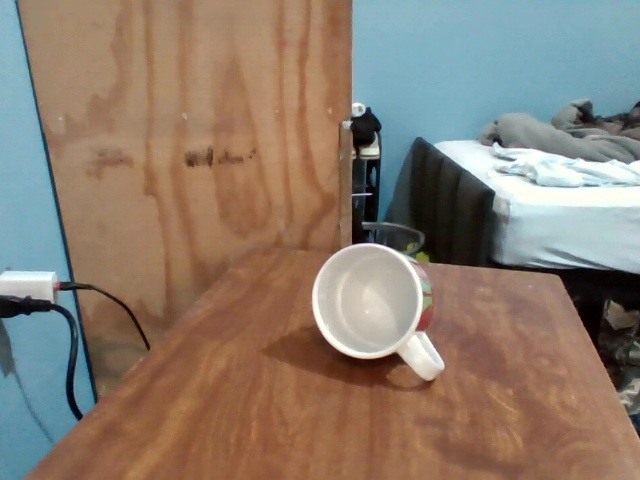taza: (311, 242, 441, 374)
